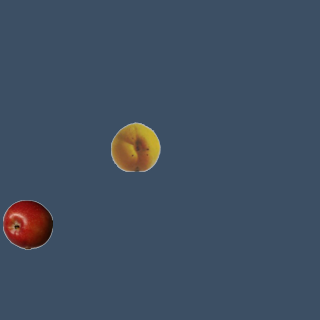Apple Braeburn: (2, 199, 52, 249)
Peach 2: (110, 121, 160, 171)
